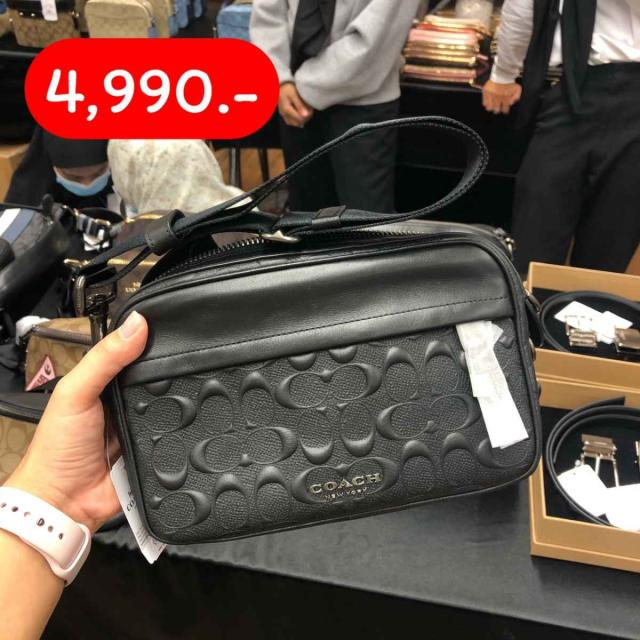Handbag: (42, 213, 559, 550)
